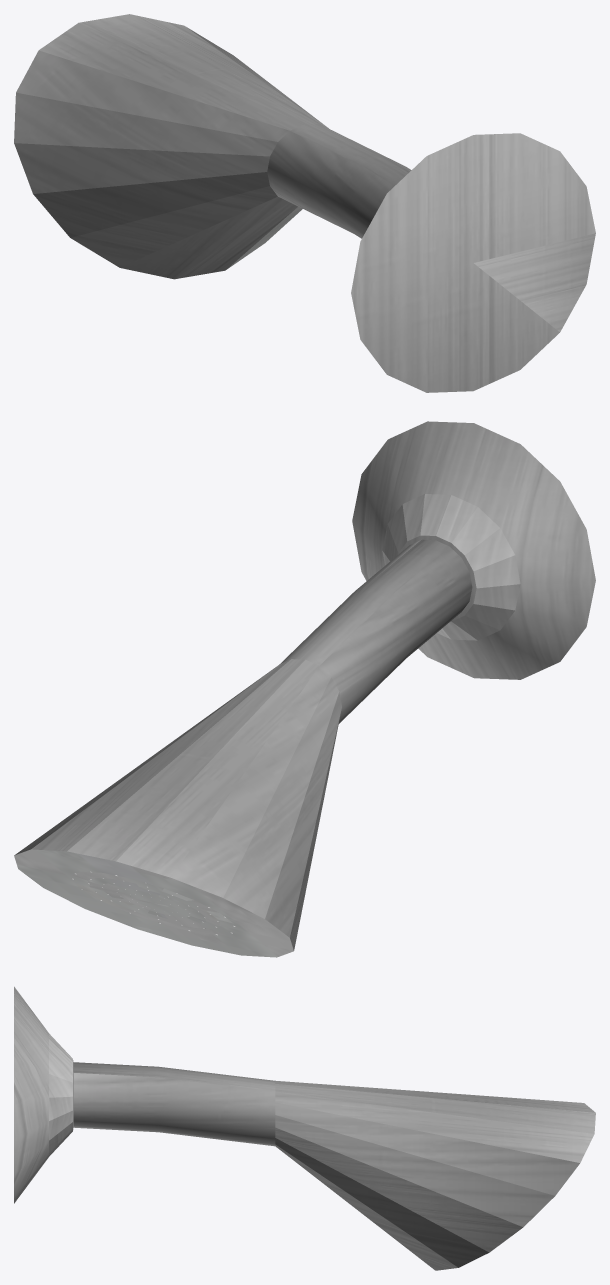
The model's file is showerHeadWTextures.fbx.
3 renders of one model, top to bottom at view 1: azimuth 30°, elevation 25°; view 2: azimuth 150°, elevation 25°; view 3: azimuth 270°, elevation 25°, orthographic. The views are drawn at different scales.
Visible parts, largest first — view 1: pCylinder66; view 2: pCylinder66; view 3: pCylinder66.
Boxes of the visible parts, left/top/right/bottom form: pCylinder66: left=14, top=14, right=595, bottom=392; pCylinder66: left=14, top=421, right=595, bottom=957; pCylinder66: left=14, top=986, right=595, bottom=1270.
Bounding box in the file's own units: 0.035 × 0.0438 × 0.0895.
